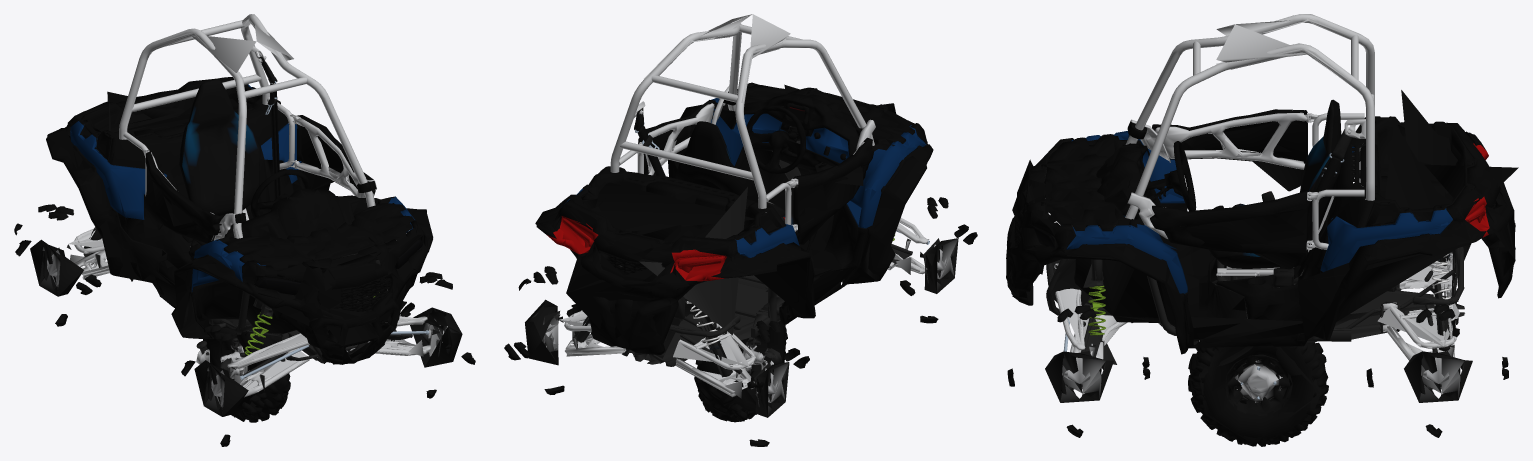
File: utv2.glb
3 views of the same model, side by side, from view 1: azimuth 30°, elevation 25°; view 2: azimuth 150°, elevation 25°; view 3: azimuth 270°, elevation 25° (orthographic). The views are drawn at different scales.
Parts seen in each view (by area): view 1: body0, body2, body1, wheel0, wheel1; view 2: body0, body2, body1, wheel0, wheel1; view 3: body0, body2, body1, wheel0, wheel1.
Part boxes in pixels (x1=…): body0: x1=14, y1=14, x2=475, y2=446; body2: x1=30, y1=24, x2=462, y2=416; body1: x1=14, y1=14, x2=474, y2=445; wheel0: x1=204, y1=324, x2=290, y2=422; wheel1: x1=203, y1=329, x2=288, y2=419; body0: x1=504, y1=23, x2=977, y2=446; body2: x1=525, y1=14, x2=958, y2=417; body1: x1=505, y1=27, x2=976, y2=446; wheel0: x1=695, y1=321, x2=787, y2=422; wheel1: x1=694, y1=325, x2=786, y2=415; body0: x1=1007, y1=14, x2=1515, y2=437; body2: x1=1006, y1=20, x2=1518, y2=402; body1: x1=1006, y1=14, x2=1515, y2=436; wheel0: x1=1188, y1=342, x2=1328, y2=446; wheel1: x1=1189, y1=346, x2=1328, y2=443.
Bounding box in the file's own units: 1.53 × 2.23 × 2.47.
